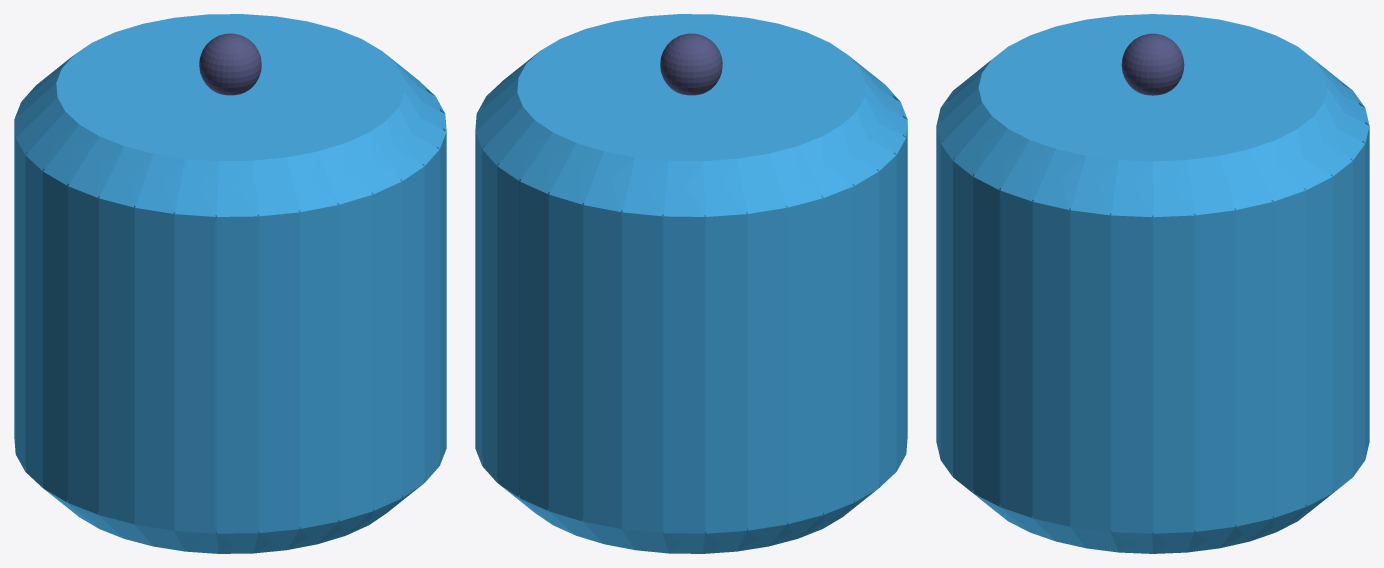
The model's file is pot.fbx.
The picture shows the model from 3 angles, left to right: view 1: azimuth 30°, elevation 25°; view 2: azimuth 150°, elevation 25°; view 3: azimuth 270°, elevation 25°; orthographic projection.
Visible parts, largest first — view 1: Cylinder.006, Sphere; view 2: Cylinder.006, Sphere; view 3: Cylinder.006, Sphere.
Part boxes in pixels (x1,y1,x2,y2): Cylinder.006: [14, 14, 446, 553]; Sphere: [199, 33, 261, 95]; Cylinder.006: [475, 14, 907, 553]; Sphere: [660, 33, 722, 95]; Cylinder.006: [936, 14, 1369, 553]; Sphere: [1121, 33, 1184, 95].
Bounding box in the file's own units: 63.19 × 71.45 × 63.19.
